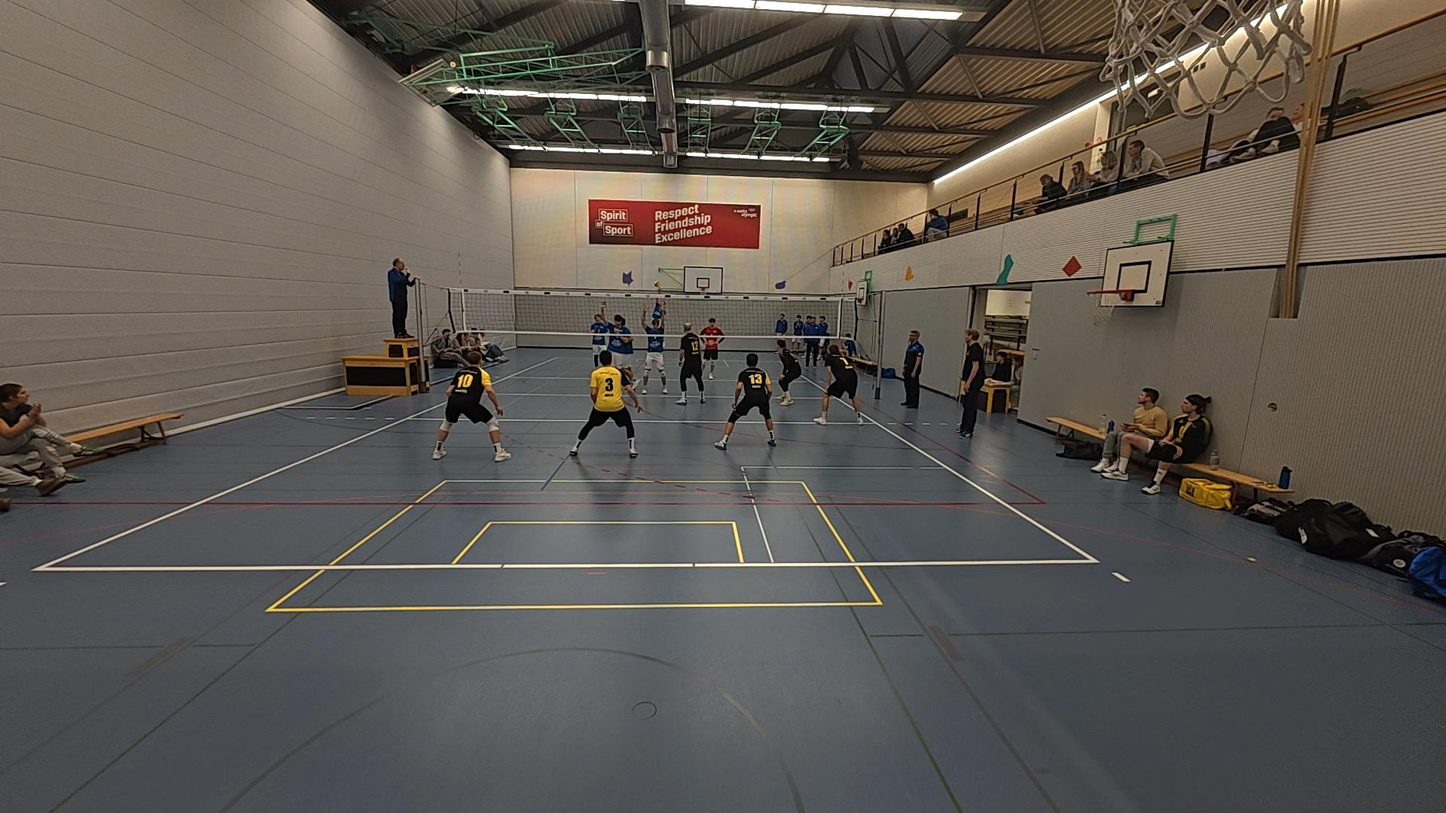Player: (432, 350, 511, 460), (569, 349, 639, 458), (714, 353, 776, 449), (815, 341, 864, 426), (598, 300, 629, 395), (638, 305, 670, 396), (674, 326, 705, 407), (773, 338, 804, 406), (700, 317, 725, 381), (586, 313, 610, 375), (618, 316, 634, 392)
Serve: (643, 284, 670, 349)
ball: (652, 280, 660, 288)
